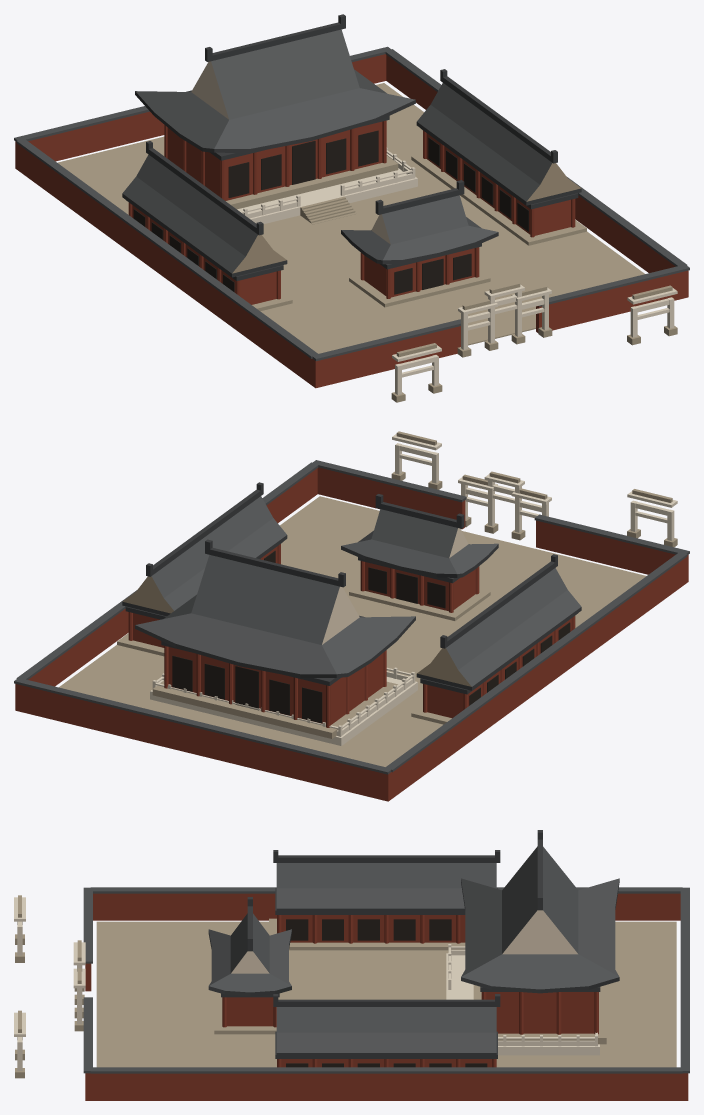
File: X06_far.glb
3 views of the same model, one above another, from view 1: azimuth 30°, elevation 25°; view 2: azimuth 150°, elevation 25°; view 3: azimuth 270°, elevation 25° (orthographic).
Visible parts, largest first — view 1: X06_far; view 2: X06_far; view 3: X06_far.
Boxes of the visible parts, left/top/right/bottom form: X06_far: left=14, top=14, right=689, bottom=402; X06_far: left=14, top=431, right=689, bottom=801; X06_far: left=14, top=830, right=689, bottom=1100.
Size of the model in its own units: 51.1 by 18.81 by 79.25.
